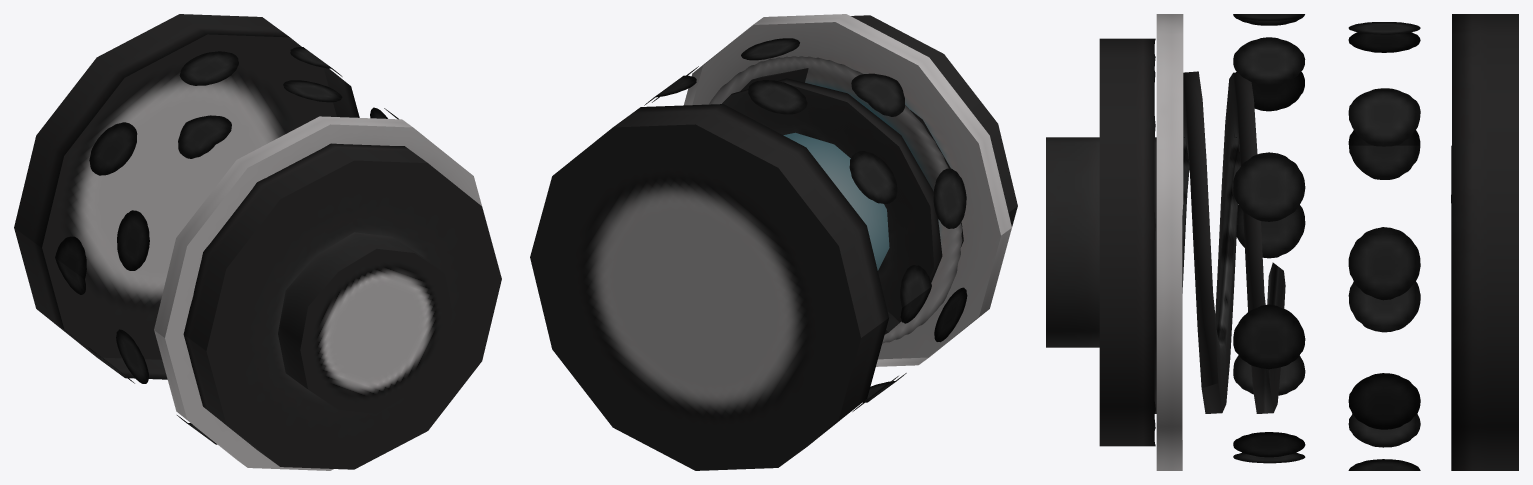
File: obj_interactive_suspensionoffroad_04_on.fbx
3 renders of one model, left to right at view 1: azimuth 30°, elevation 25°; view 2: azimuth 150°, elevation 25°; view 3: azimuth 270°, elevation 25°, orthographic. The views are drawn at different scales.
Visible parts, largest first — view 1: obj_interactive_suspensionoffroad_04_on; view 2: obj_interactive_suspensionoffroad_04_on; view 3: obj_interactive_suspensionoffroad_04_on.
Part boxes in pixels (<box>): obj_interactive_suspensionoffroad_04_on: <box>14,14,501,470</box>; obj_interactive_suspensionoffroad_04_on: <box>530,14,1017,470</box>; obj_interactive_suspensionoffroad_04_on: <box>1046,14,1518,470</box>.
Size of the model in its own units: 1.09 by 1.09 by 1.13.
